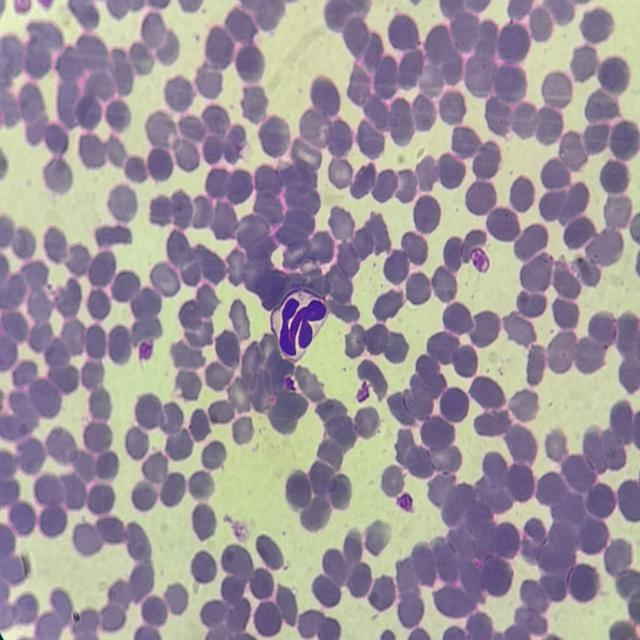Neutrofilo: (272, 292, 328, 361)
